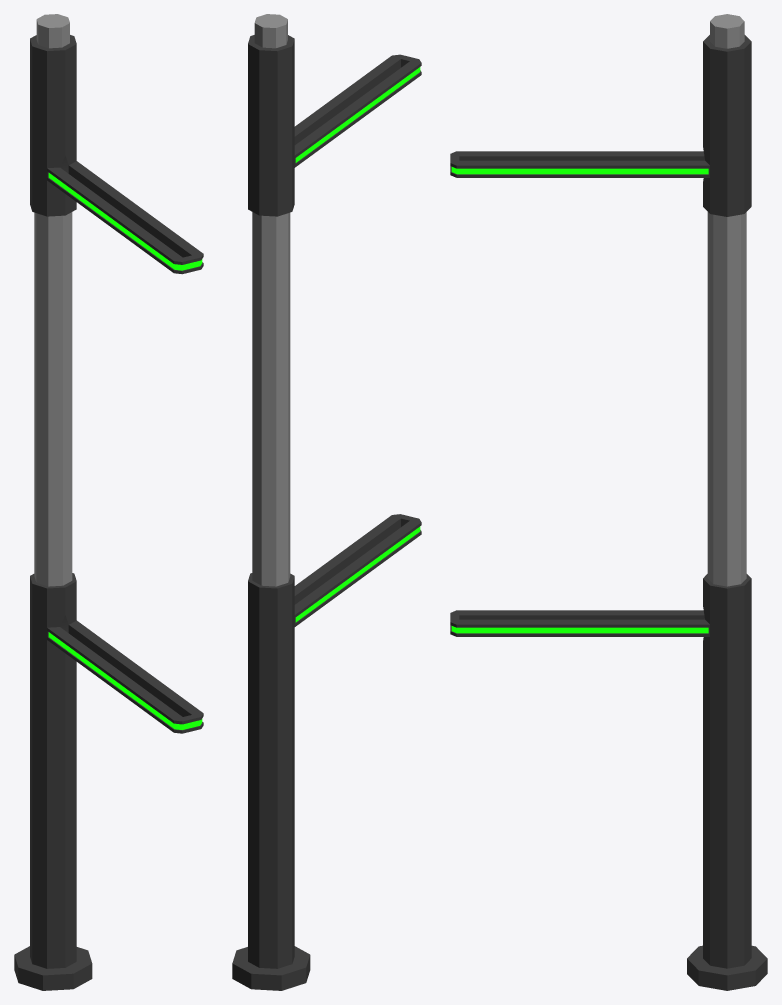
The model's file is Signboard_Support_06.FBX.
The picture shows the model from 3 angles, left to right: view 1: azimuth 30°, elevation 25°; view 2: azimuth 150°, elevation 25°; view 3: azimuth 270°, elevation 25°; orthographic projection.
Visible parts, largest first — view 1: Signboard_Support_06_LOD0; view 2: Signboard_Support_06_LOD0; view 3: Signboard_Support_06_LOD0.
Part boxes in pixels (x1,y1,x2,y2): Signboard_Support_06_LOD0: (14,14,203,990); Signboard_Support_06_LOD0: (232,14,421,990); Signboard_Support_06_LOD0: (450,14,767,990).
Size of what is drawn, in the model's own units: 14.1 by 184 by 55.48.
